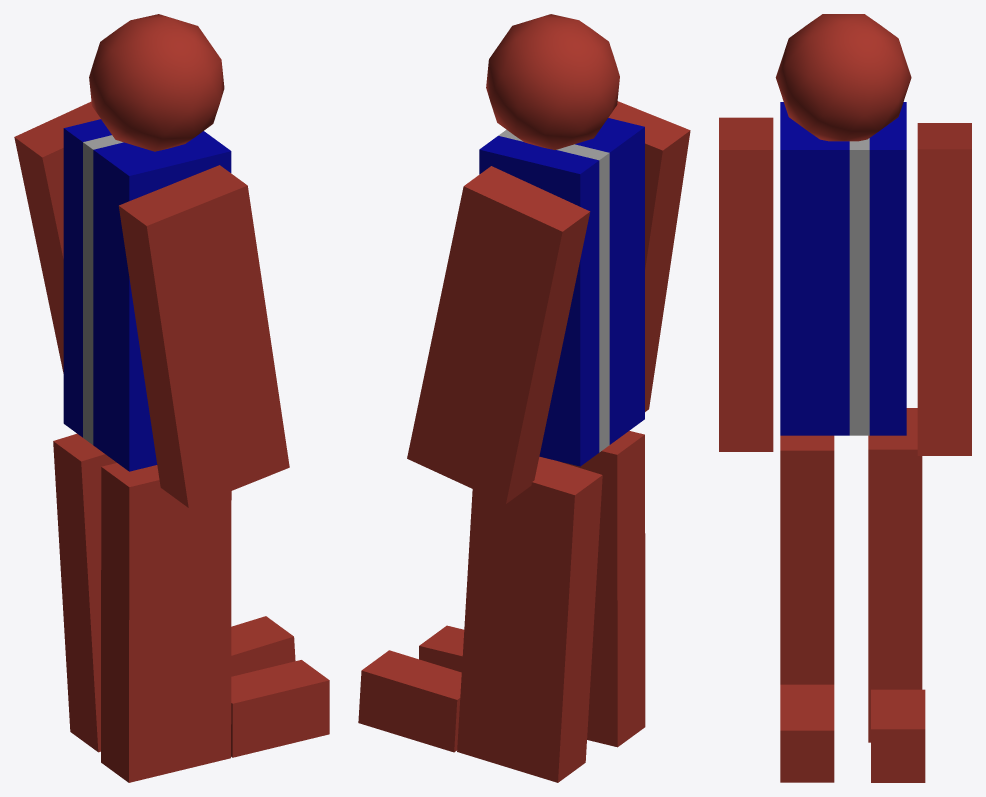
Rendered from player_000042.obj.
3 views of the same model, side by side, from view 1: azimuth 30°, elevation 25°; view 2: azimuth 150°, elevation 25°; view 3: azimuth 270°, elevation 25° (orthographic). The views are drawn at different scales.
Parts seen in each view (by area): view 1: Cube.005, Cube.001, Cube, Icosphere, Cube.002, Cube.003, Cube.006, Cube.004; view 2: Cube.006, Cube.002, Cube, Cube.001, Icosphere, Cube.005, Cube.004, Cube.003; view 3: Cube, Cube.005, Cube.006, Cube.002, Cube.001, Icosphere, Cube.003, Cube.004.
Boxes of the visible parts, x1,y1,x2,y2 form: Cube.005: (118,165,289,507); Cube.001: (101,463,231,782); Cube: (63,119,231,471); Icosphere: (89,14,224,151); Cube.002: (53,433,116,752); Cube.003: (231,660,329,757); Cube.006: (14,101,100,373); Cube.004: (231,616,295,676); Cube.006: (407,166,590,503); Cube.002: (457,456,602,782); Cube: (479,118,644,466); Cube.001: (560,431,645,747); Icosphere: (486,14,619,149); Cube.005: (608,101,690,411); Cube.004: (358,650,461,752); Cube.003: (419,625,464,672); Cube: (780,102,906,435); Cube.005: (719,117,773,451); Cube.006: (917,123,971,455); Cube.002: (868,408,922,742); Cube.001: (780,435,834,684); Icosphere: (775,14,911,141); Cube.003: (780,684,834,782); Cube.004: (871,689,925,782).
Bounding box in the file's own units: 0.9295 × 2.81 × 0.9137.
